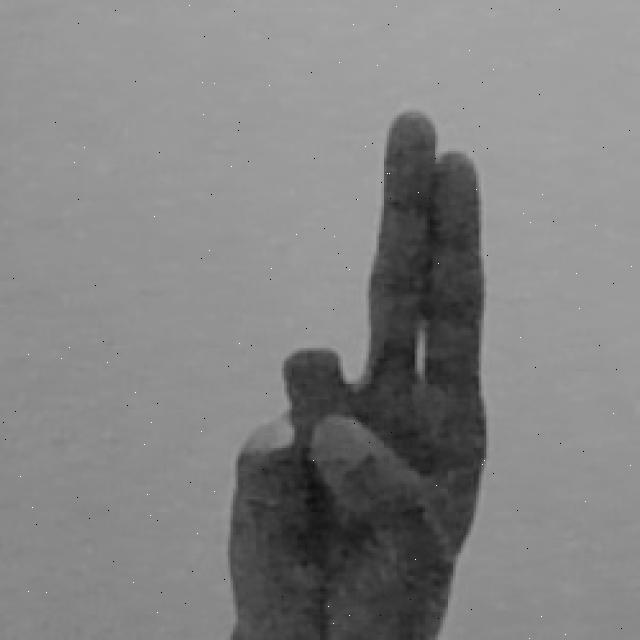U: (231, 104, 496, 640)
